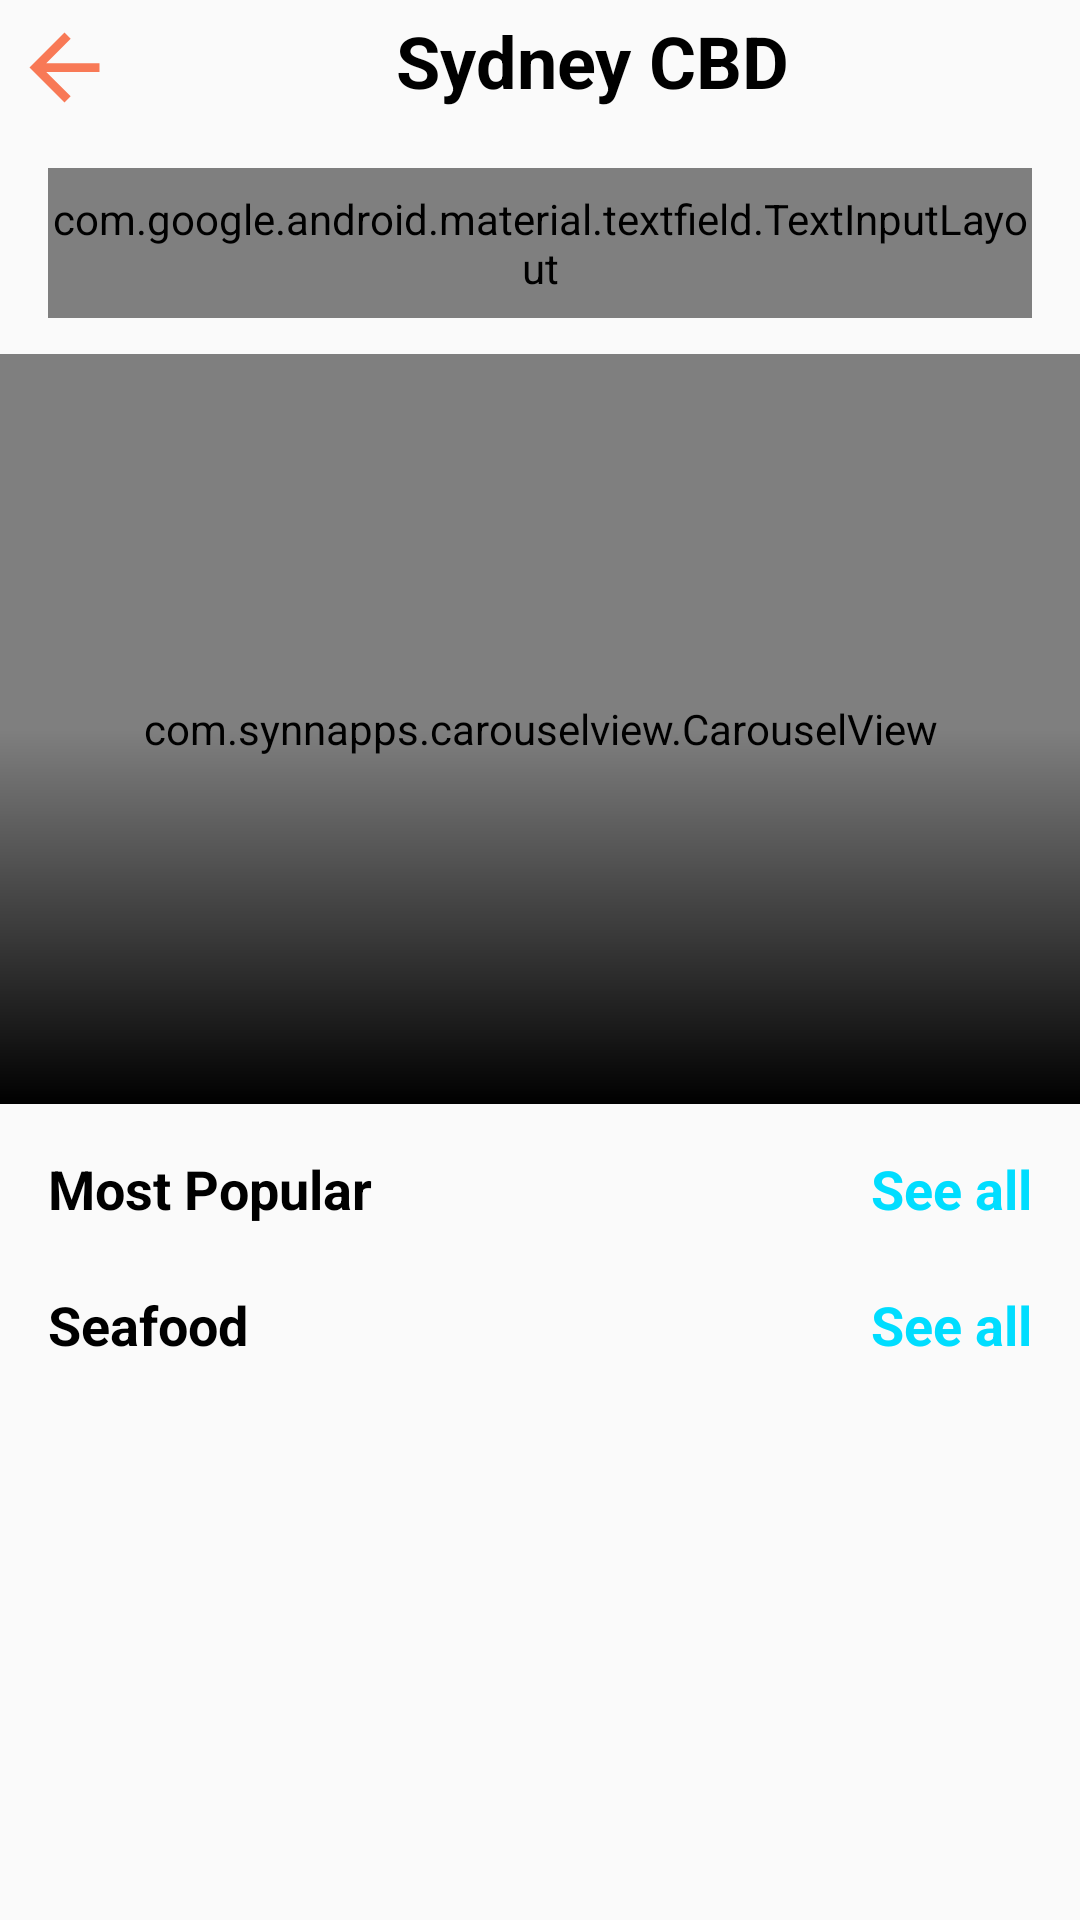

Named icons in this screenshot (1080×1920) and their centers, [x,y]:
arrow back: [64,67]
